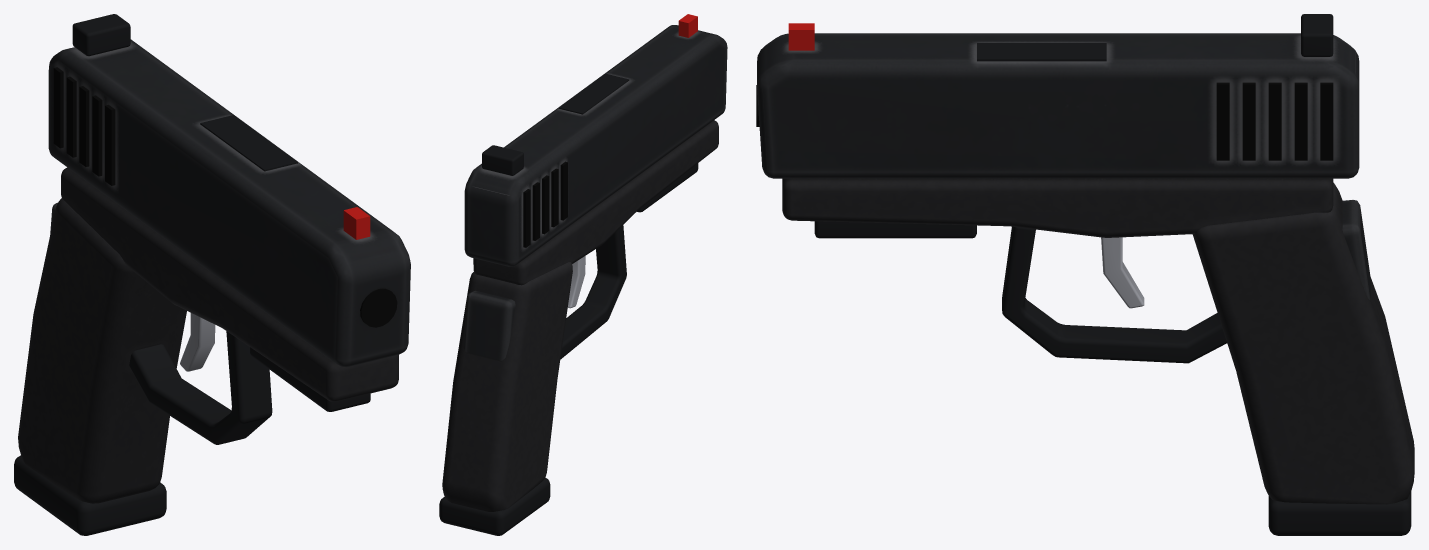
File: CHOTA.fbx
3 renders of one model, left to right at view 1: azimuth 30°, elevation 25°; view 2: azimuth 150°, elevation 25°; view 3: azimuth 270°, elevation 25°, orthographic. The views are drawn at different scales.
Parts seen in each view (by area): view 1: CHOTA_LOD0, Slide_LOD0, Mag_LOD0, Trigger_LOD0; view 2: CHOTA_LOD0, Slide_LOD0, Mag_LOD0, Trigger_LOD0; view 3: Slide_LOD0, CHOTA_LOD0, Mag_LOD0, Trigger_LOD0.
Boxes of the visible parts, x1=… form: CHOTA_LOD0: x1=18, y1=167, x2=398, y2=503; Slide_LOD0: x1=48, y1=14, x2=410, y2=367; Mag_LOD0: x1=14, y1=202, x2=166, y2=535; Trigger_LOD0: x1=180, y1=313, x2=215, y2=371; CHOTA_LOD0: x1=442, y1=120, x2=718, y2=511; Slide_LOD0: x1=464, y1=14, x2=727, y2=266; Mag_LOD0: x1=439, y1=290, x2=550, y2=535; Trigger_LOD0: x1=567, y1=256, x2=585, y2=308; Slide_LOD0: x1=757, y1=14, x2=1359, y2=178; CHOTA_LOD0: x1=756, y1=85, x2=1414, y2=504; Mag_LOD0: x1=1268, y1=200, x2=1411, y2=535; Trigger_LOD0: x1=1101, y1=237, x2=1144, y2=308.
Size of what is drawn, in the model's own units: 0.032 by 0.168 by 0.203.
